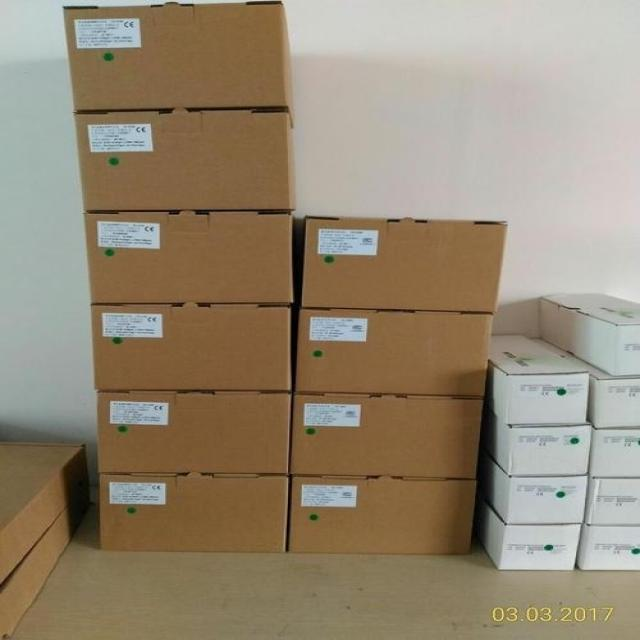box: (63, 1, 293, 123), (74, 107, 296, 211), (301, 215, 509, 311), (84, 210, 293, 303), (91, 303, 292, 391), (294, 308, 492, 395), (289, 392, 484, 478), (96, 391, 292, 473), (288, 475, 477, 556), (99, 473, 288, 553), (0, 482, 92, 640), (0, 442, 90, 586), (530, 338, 640, 428), (486, 334, 591, 425), (538, 291, 640, 376), (483, 406, 591, 475), (481, 507, 582, 570), (490, 462, 588, 524), (577, 526, 640, 570), (585, 478, 640, 524), (590, 428, 640, 476)
